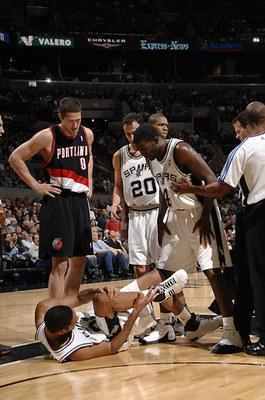10+: (1, 36, 265, 353)
down: (35, 273, 222, 363)
